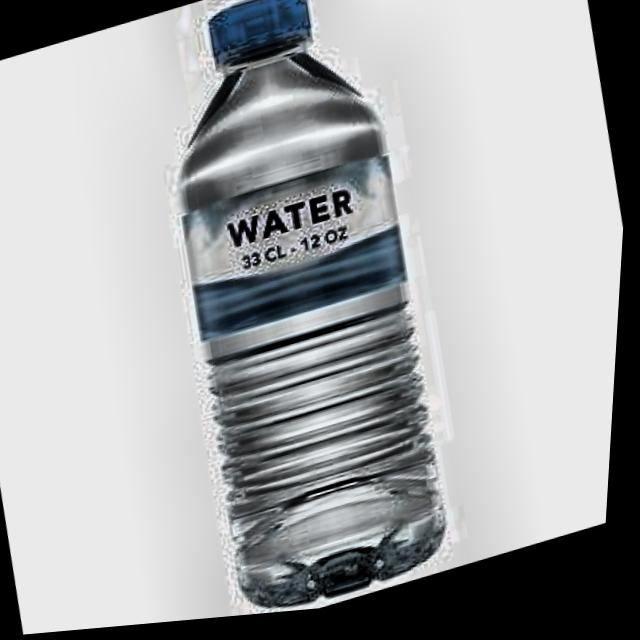Bottles: (117, 0, 501, 630)
